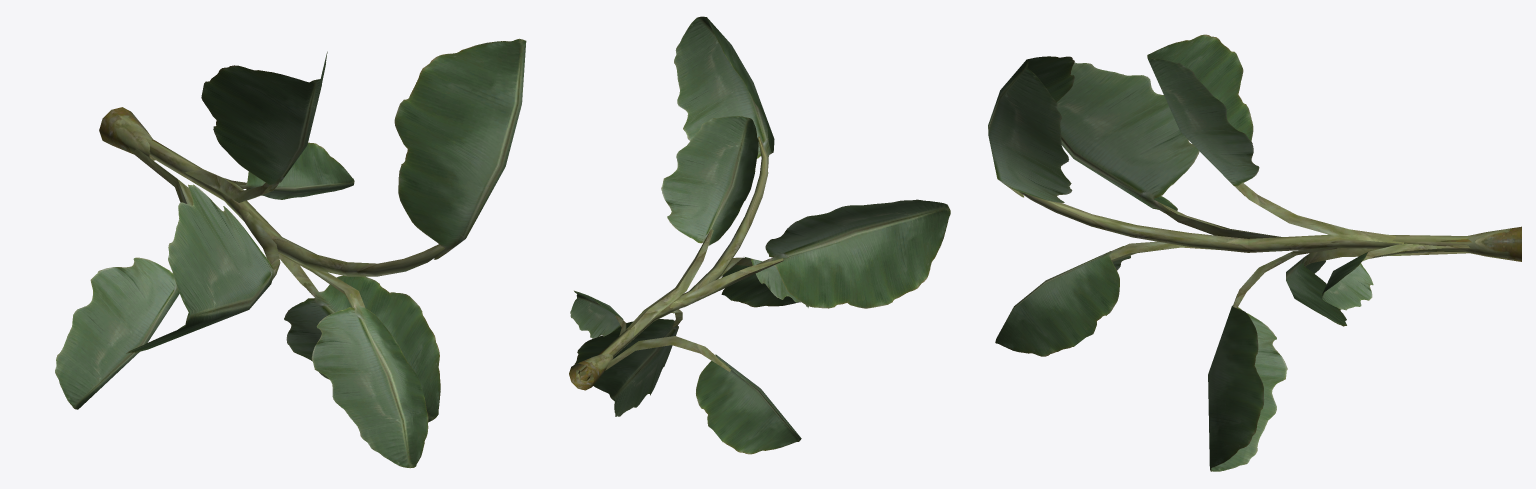
The model's file is com_potted_plant01_LOD0.obj.
3 views of the same model, side by side, from view 1: azimuth 30°, elevation 25°; view 2: azimuth 150°, elevation 25°; view 3: azimuth 270°, elevation 25° (orthographic). The views are drawn at different scales.
Parts seen in each view (by area): view 1: mtl_potted_plant01; view 2: mtl_potted_plant01; view 3: mtl_potted_plant01.
Boxes of the visible parts, x1,y1,x2,y2 form: mtl_potted_plant01: [55, 38, 526, 468]; mtl_potted_plant01: [569, 16, 950, 454]; mtl_potted_plant01: [988, 34, 1521, 471].
Size of the model in its own units: 133 by 132 by 152.
